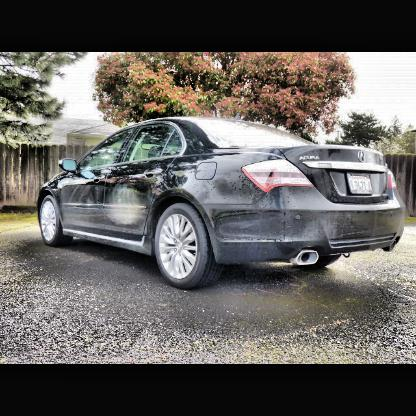Acura RL Sedan 2012: (37, 115, 408, 292)
